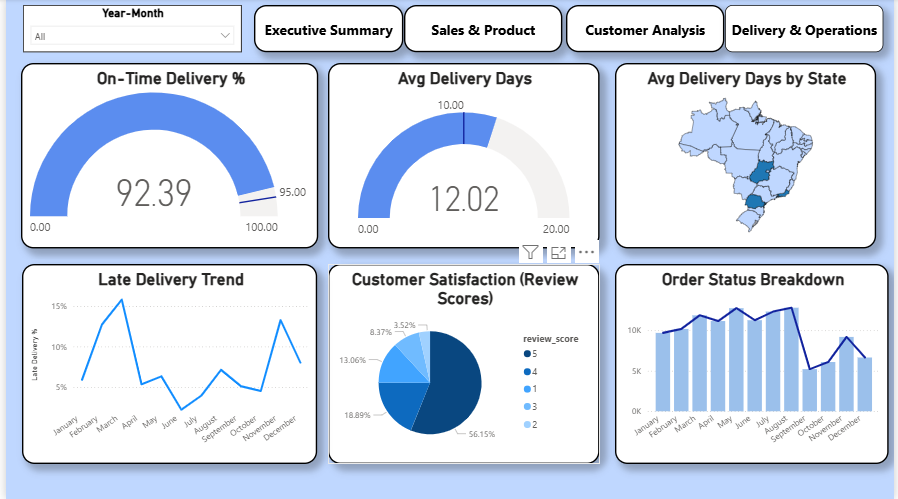

This screenshot's page, from the dashboard's own definition file:
{"tool":"powerbi","page":{"name":"Delivery & Operations","canvas":[1280,720],"ordinal":3},"visuals":[{"type":"actionButton","box":[356.7,8.3,215,68.3],"z":0},{"type":"actionButton","box":[573.3,8.3,228.3,68.3],"z":1000},{"type":"actionButton","box":[806.7,8.3,228.3,68.3],"z":2000},{"type":"actionButton","box":[1035,8.3,228.3,68.3],"z":3000},{"type":"gauge","title":"On-Time Delivery %","fields":{"Y":["master_sales_data.On-Time Delivery %"]},"box":[20.9,92.5,428.4,267.2],"z":4000},{"type":"gauge","title":"Avg Delivery Days","fields":{"Y":["Avg(master_sales_data.delivery_days)"]},"box":[464.2,92.5,391,267.2],"z":5000},{"type":"lineStackedColumnComboChart","title":"Order Status Breakdown","fields":{"Category":["master_sales_data.Order Date.Variation.Date Hierarchy.Month"],"Y":["CountNonNull(master_sales_data.is_late)"],"Y2":["CountNonNull(master_sales_data.is_late)"]},"box":[877.6,382.1,394,288.1],"z":6000},{"type":"shapeMap","title":"Avg Delivery Days by State","fields":{"Category":["master_sales_data.customer_city"]},"box":[877.6,92.5,376.1,267.2],"z":7000},{"type":"pieChart","title":"Customer Satisfaction (Review Scores)","fields":{"Category":["master_sales_data.review_score"],"Y":["CountNonNull(master_sales_data.order_id)"]},"box":[464.2,382.1,391,288.1],"z":8000},{"type":"lineChart","title":"Late Delivery Trend","fields":{"Category":["master_sales_data.Order Date.Variation.Date Hierarchy.Month"],"Y":["master_sales_data.Late Delivery %"]},"box":[22.4,382.1,425.4,288.1],"z":9000},{"type":"slicer","title":"Year-Month","fields":{"Values":["master_sales_data.Order Date"]},"box":[25,8.3,315,68.3],"z":10000}]}

Visuals, with their boxes in screenshot pixels (x1, y1, x2, y2), scaled from the page's 1280x720 canvas onto the 898x499 screenshot:
actionButton: detection(250, 6, 401, 53)
actionButton: detection(402, 6, 562, 53)
actionButton: detection(566, 6, 726, 53)
actionButton: detection(726, 6, 886, 53)
"On-Time Delivery %" gauge: detection(15, 64, 315, 249)
"Avg Delivery Days" gauge: detection(326, 64, 600, 249)
"Order Status Breakdown" lineStackedColumnComboChart: detection(616, 265, 892, 464)
"Avg Delivery Days by State" shapeMap: detection(616, 64, 880, 249)
"Customer Satisfaction (Review Scores)" pieChart: detection(326, 265, 600, 464)
"Late Delivery Trend" lineChart: detection(16, 265, 314, 464)
"Year-Month" slicer: detection(18, 6, 239, 53)
